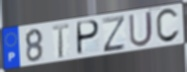8: (24, 28, 44, 64)
C: (154, 7, 181, 45)
P: (76, 19, 101, 57)
T: (51, 22, 71, 60)
U: (128, 9, 155, 48)
Z: (101, 14, 127, 54)
